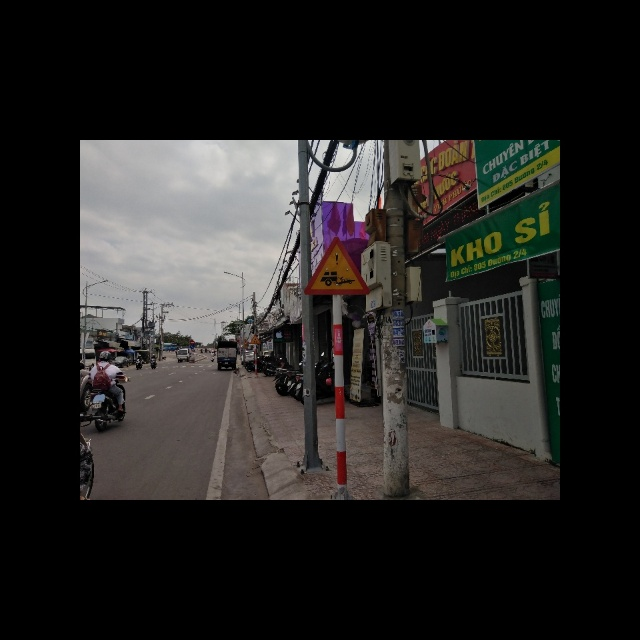Đoạn đường hay xảy ra tai nạn: (305, 237, 369, 295)
Đường đôi: (249, 332, 262, 344)
